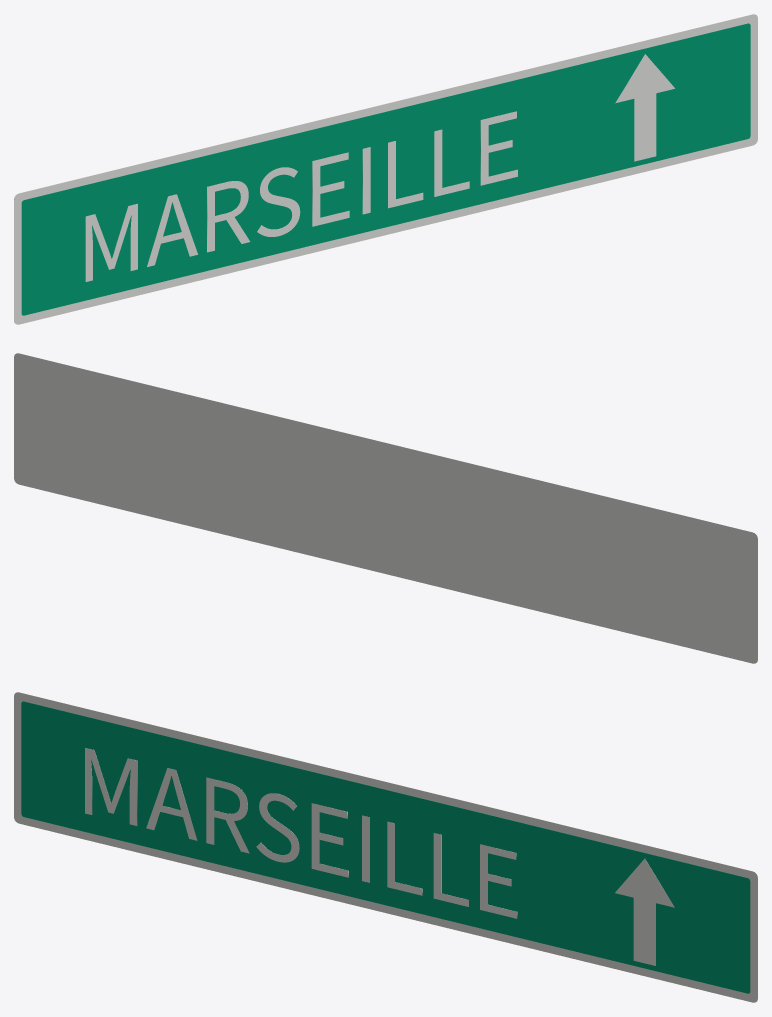
3 renders of one model, top to bottom at view 1: azimuth 30°, elevation 25°; view 2: azimuth 150°, elevation 25°; view 3: azimuth 330°, elevation 25°, orthographic.
Visible parts, largest first — view 1: Dv43c_reg01, Dv43c_lis00, Dv43c_txt03, Dv43c_fl02; view 2: Dv43c_lis00; view 3: Dv43c_reg01, Dv43c_lis00, Dv43c_txt03, Dv43c_fl02.
Boxes of the visible parts, x1=… form: Dv43c_reg01: x1=21, y1=23, x2=750, y2=315; Dv43c_lis00: x1=14, y1=14, x2=757, y2=324; Dv43c_txt03: x1=85, y1=111, x2=517, y2=281; Dv43c_fl02: x1=615, y1=54, x2=674, y2=161; Dv43c_lis00: x1=14, y1=353, x2=757, y2=663; Dv43c_reg01: x1=21, y1=701, x2=750, y2=993; Dv43c_lis00: x1=14, y1=692, x2=757, y2=1002; Dv43c_txt03: x1=85, y1=748, x2=517, y2=918; Dv43c_fl02: x1=615, y1=858, x2=674, y2=965.
Size of the model in its own units: 1.48 by 0.25 by 0.0016.
